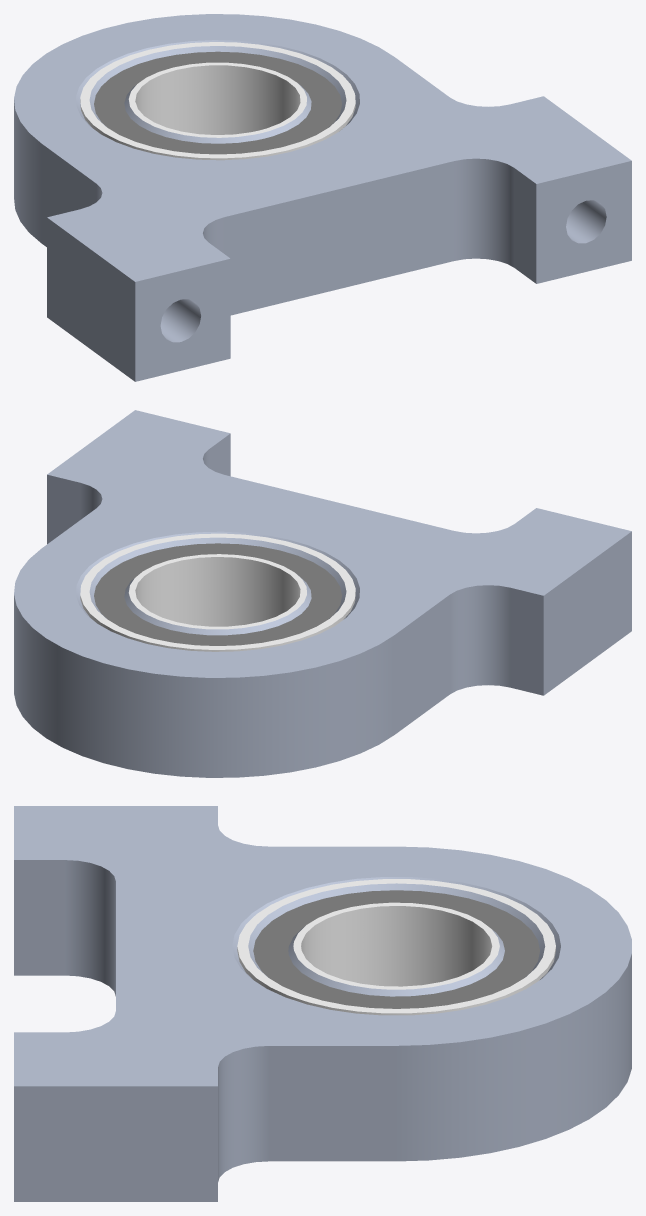
The model's file is ROB-12100.obj.
The picture shows the model from 3 angles, top to bottom: view 1: azimuth 30°, elevation 25°; view 2: azimuth 150°, elevation 25°; view 3: azimuth 270°, elevation 25°; orthographic projection. The views are drawn at different scales.
Parts seen in each view (by area): view 1: mesh 1 RO, mesh 2 Boss-Extrude2, mesh 3 Boss-Extrude4; view 2: mesh 1 RO, mesh 2 Boss-Extrude2, mesh 3 Boss-Extrude4; view 3: mesh 1 RO, mesh 2 Boss-Extrude2, mesh 3 Boss-Extrude4.
Part boxes in pixels (left/top/right/bottom): mesh 1 RO: left=14, top=14, right=631, bottom=381; mesh 2 Boss-Extrude2: left=80, top=42, right=355, bottom=160; mesh 3 Boss-Extrude4: left=94, top=51, right=341, bottom=154; mesh 1 RO: left=14, top=410, right=631, bottom=777; mesh 2 Boss-Extrude2: left=80, top=533, right=355, bottom=651; mesh 3 Boss-Extrude4: left=94, top=543, right=341, bottom=645; mesh 1 RO: left=14, top=806, right=631, bottom=1201; mesh 2 Boss-Extrude2: left=237, top=879, right=555, bottom=1015; mesh 3 Boss-Extrude4: left=253, top=890, right=539, bottom=1008.
Bounding box in the file's own units: 0.033 × 0.00635 × 0.0308.
